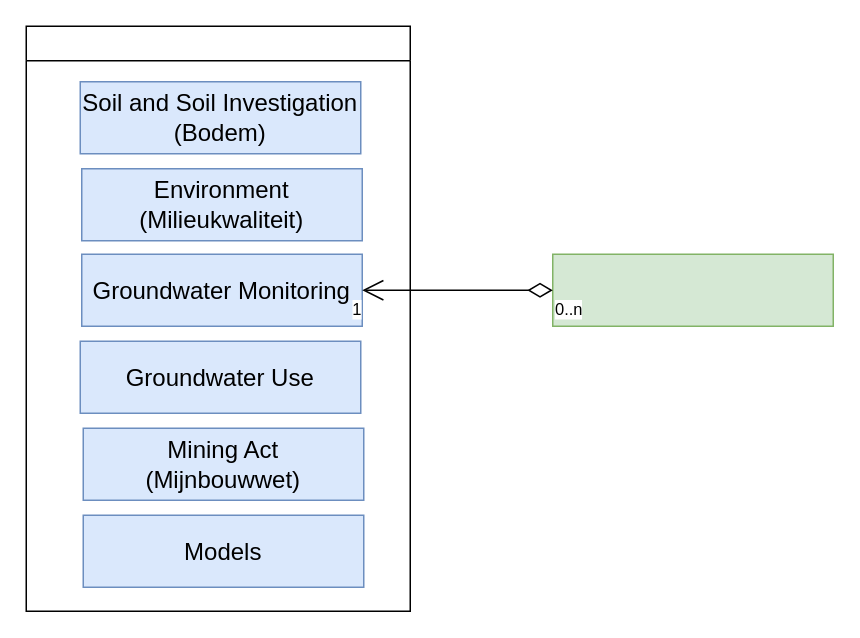
Image size: 860x638. Some labels were removed from this diagram. Here are the shapes that lost their labels. From the top down, the box of each, then its label:
(551, 253, 833, 326): Registration Object
(25, 25, 410, 611): Registration Domains (6)
